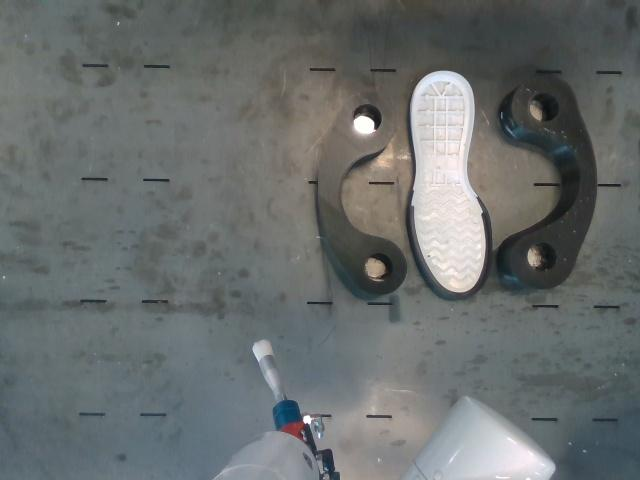shoes: (409, 71, 492, 297)
